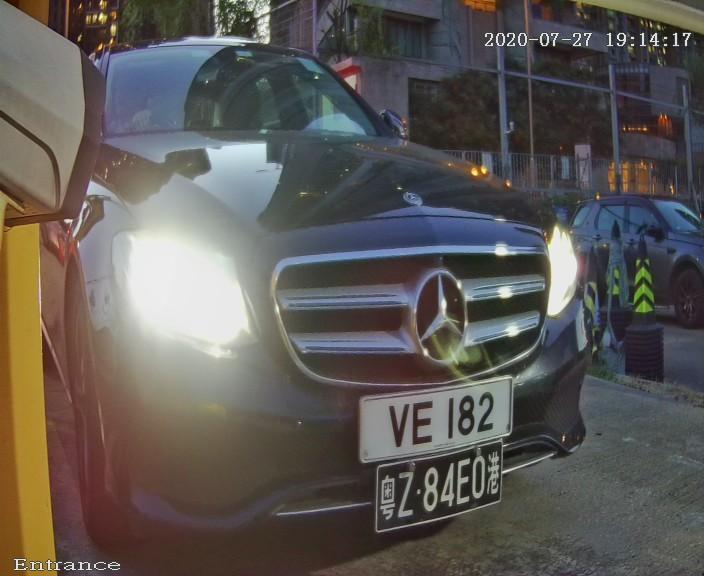privatecar: (95, 29, 573, 533)
